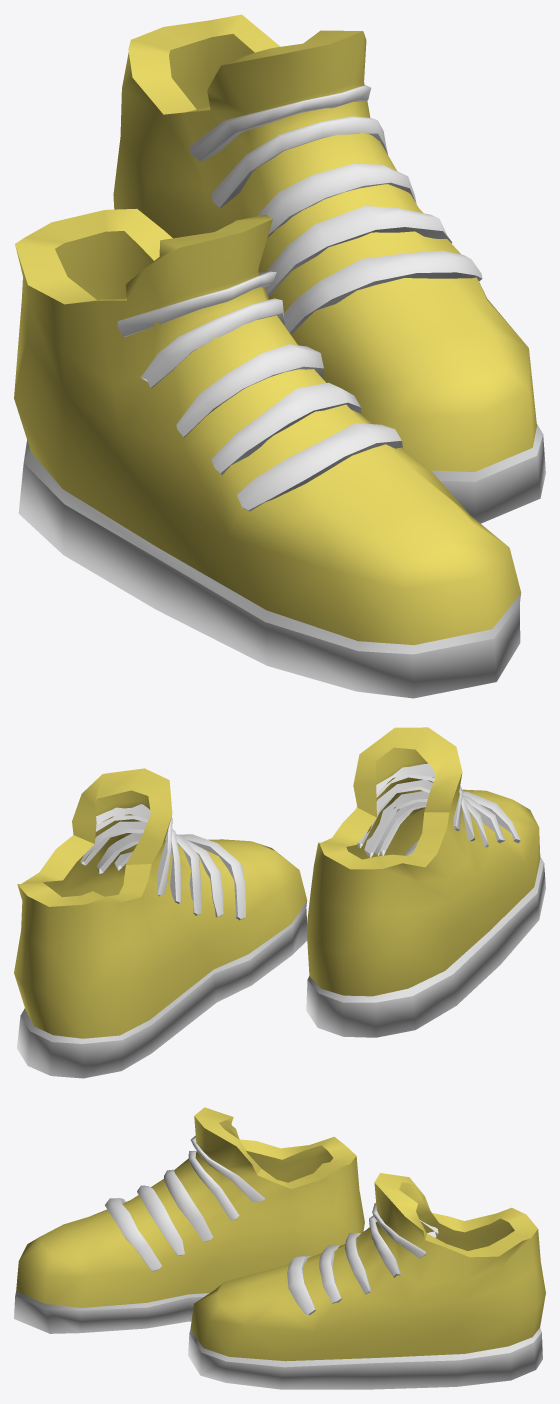
Rendered from Yellow_Shoes.fbx.
3 renders of one model, top to bottom at view 1: azimuth 30°, elevation 25°; view 2: azimuth 150°, elevation 25°; view 3: azimuth 270°, elevation 25°, orthographic. The views are drawn at different scales.
Visible parts, largest first — view 1: Yellow_Shoes; view 2: Yellow_Shoes; view 3: Yellow_Shoes.
Part boxes in pixels (left/top/right/bottom): Yellow_Shoes: left=14, top=14, right=545, bottom=698; Yellow_Shoes: left=14, top=727, right=545, bottom=1078; Yellow_Shoes: left=14, top=1107, right=545, bottom=1389.
Size of the model in its own units: 115 by 81.04 by 215.
